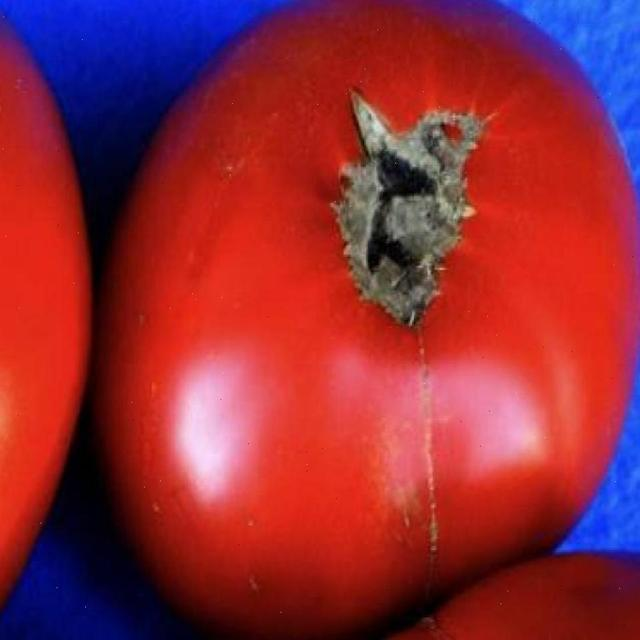Blossom End Rot Fruit: (219, 53, 335, 221)
